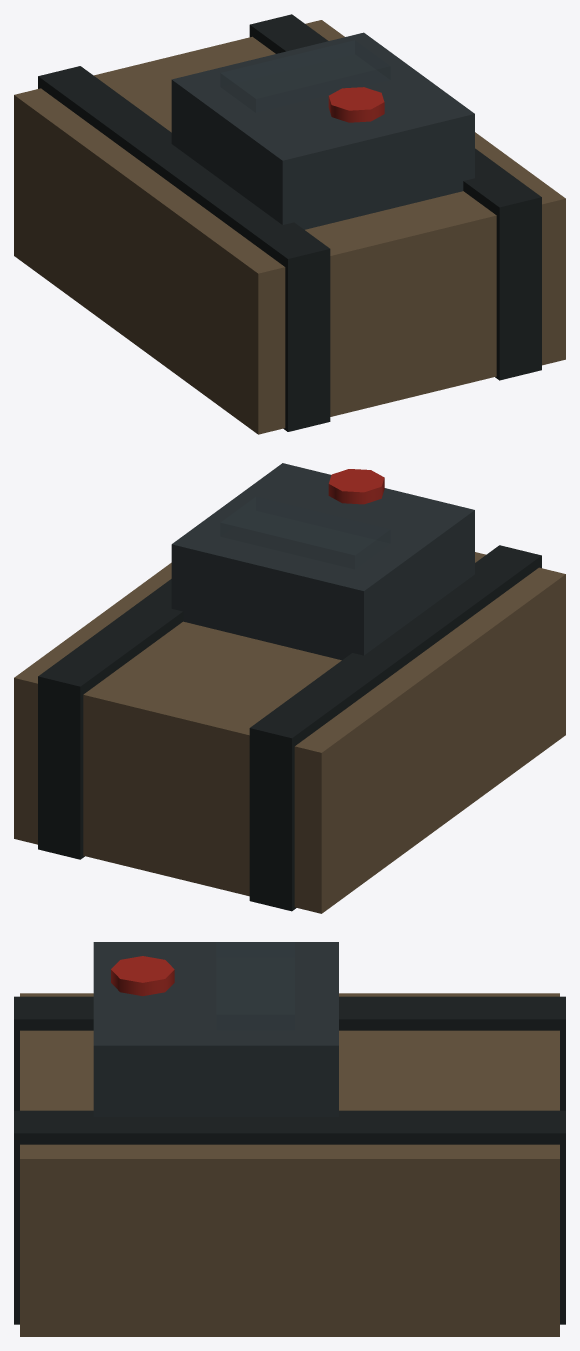
3 renders of one model, top to bottom at view 1: azimuth 30°, elevation 25°; view 2: azimuth 150°, elevation 25°; view 3: azimuth 270°, elevation 25°, orthographic. The views are drawn at different scales.
Visible parts, largest first — view 1: weapon-c4-painted, weapon-c4-glazing, weapon-charge-light-painted; view 2: weapon-c4-painted, weapon-c4-glazing, weapon-charge-light-painted; view 3: weapon-c4-painted, weapon-c4-glazing, weapon-charge-light-painted.
Boxes of the visible parts, x1,y1,x2,y2 form: weapon-c4-painted: (14,14,565,434); weapon-c4-glazing: (220,40,390,112); weapon-charge-light-painted: (328,87,384,122); weapon-c4-painted: (14,463,565,913); weapon-c4-glazing: (220,497,390,568); weapon-charge-light-painted: (328,469,384,504); weapon-c4-painted: (14,942,565,1336); weapon-c4-glazing: (216,942,294,1029); weapon-charge-light-painted: (111,956,174,996).
Size of the model in its own units: 0.8234 by 0.6639 by 1.16.
